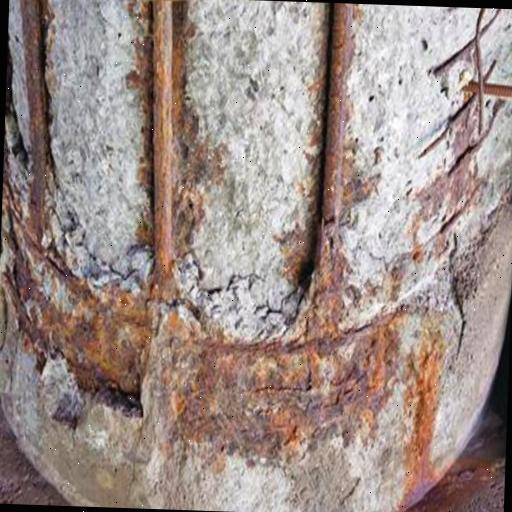spalling: (2, 0, 504, 429)
